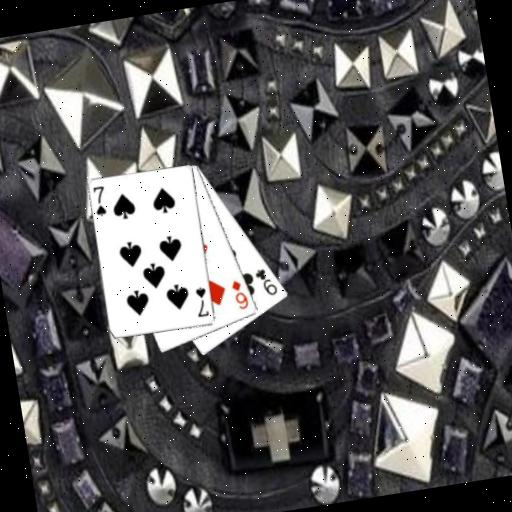6D: (227, 275, 251, 311)
7S: (190, 283, 211, 319), (89, 183, 110, 219)
9C: (251, 264, 280, 299)
